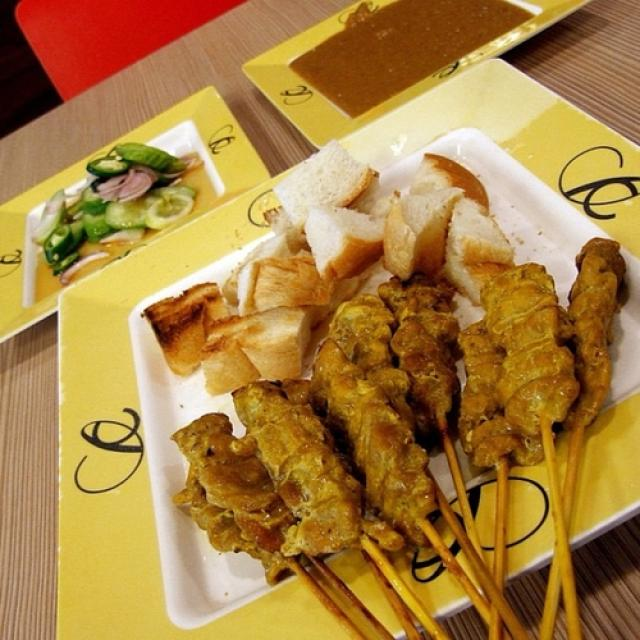牛肉菜式: (119, 154, 616, 618)
